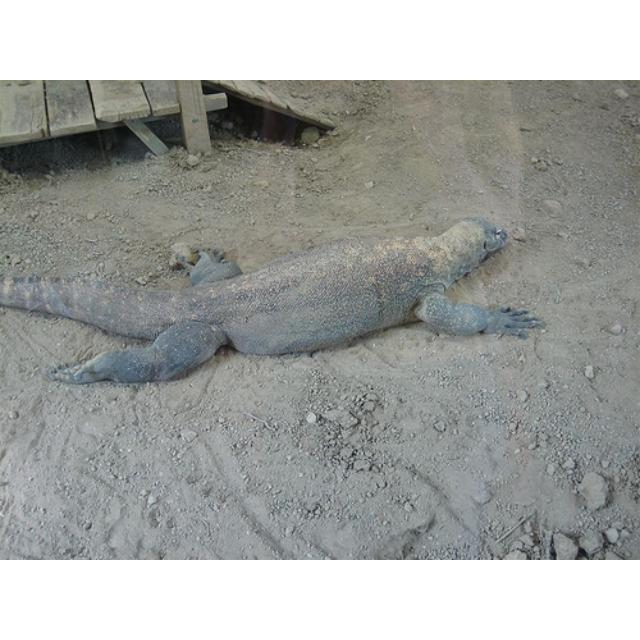KomodoDragon: (2, 215, 544, 385)
